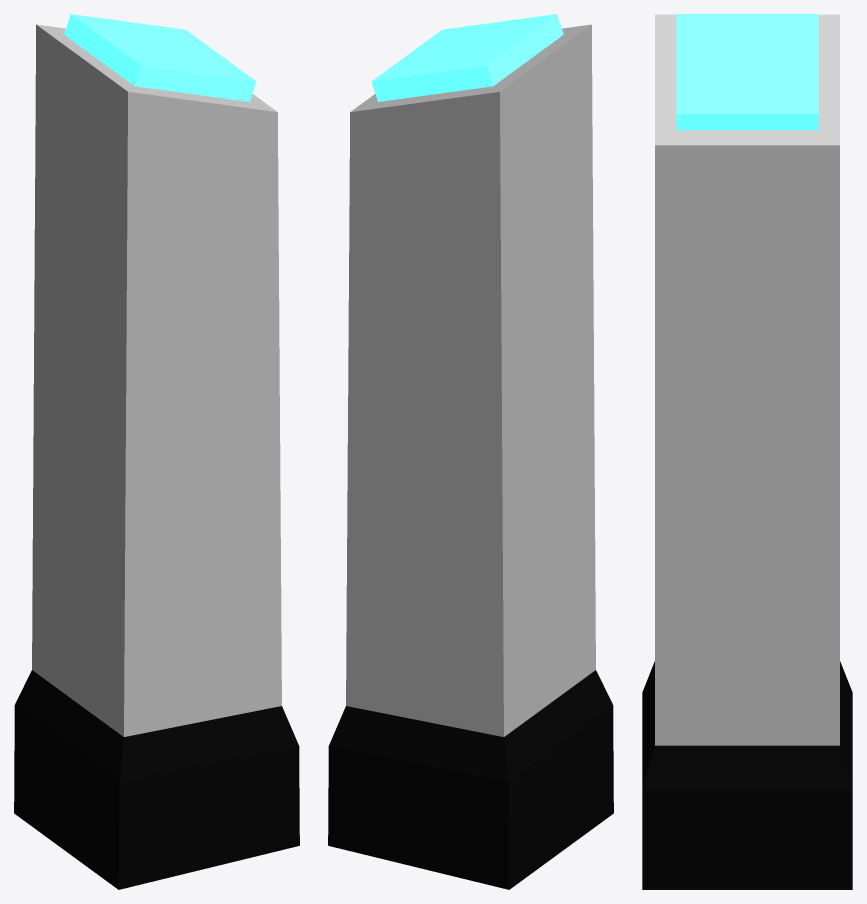
The model's file is ButtonCyan.glb.
The picture shows the model from 3 angles, left to right: view 1: azimuth 30°, elevation 25°; view 2: azimuth 150°, elevation 25°; view 3: azimuth 270°, elevation 25°; orthographic projection.
Parts seen in each view (by area): view 1: Cube; view 2: Cube; view 3: Cube.
Boxes of the visible parts, x1,y1,x2,y2 form: Cube: (14, 14, 299, 889); Cube: (328, 14, 613, 889); Cube: (642, 14, 852, 889).
Bounding box in the file's own units: 0.2882 × 1.22 × 0.2882.
